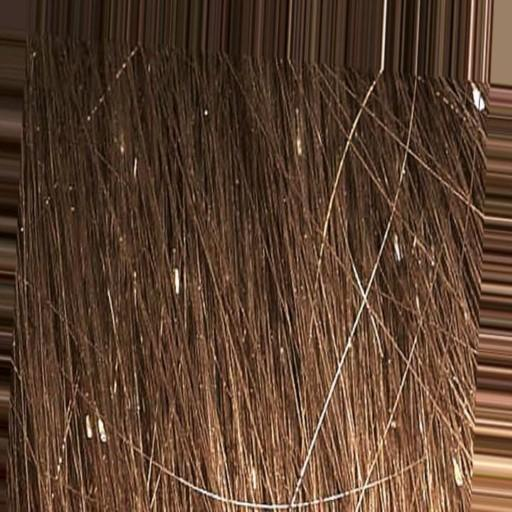Head_Lice: (79, 409, 111, 444), (468, 82, 493, 118), (443, 458, 468, 491), (165, 262, 185, 296), (125, 153, 145, 186), (386, 229, 403, 265), (289, 136, 309, 163), (289, 136, 292, 139)
